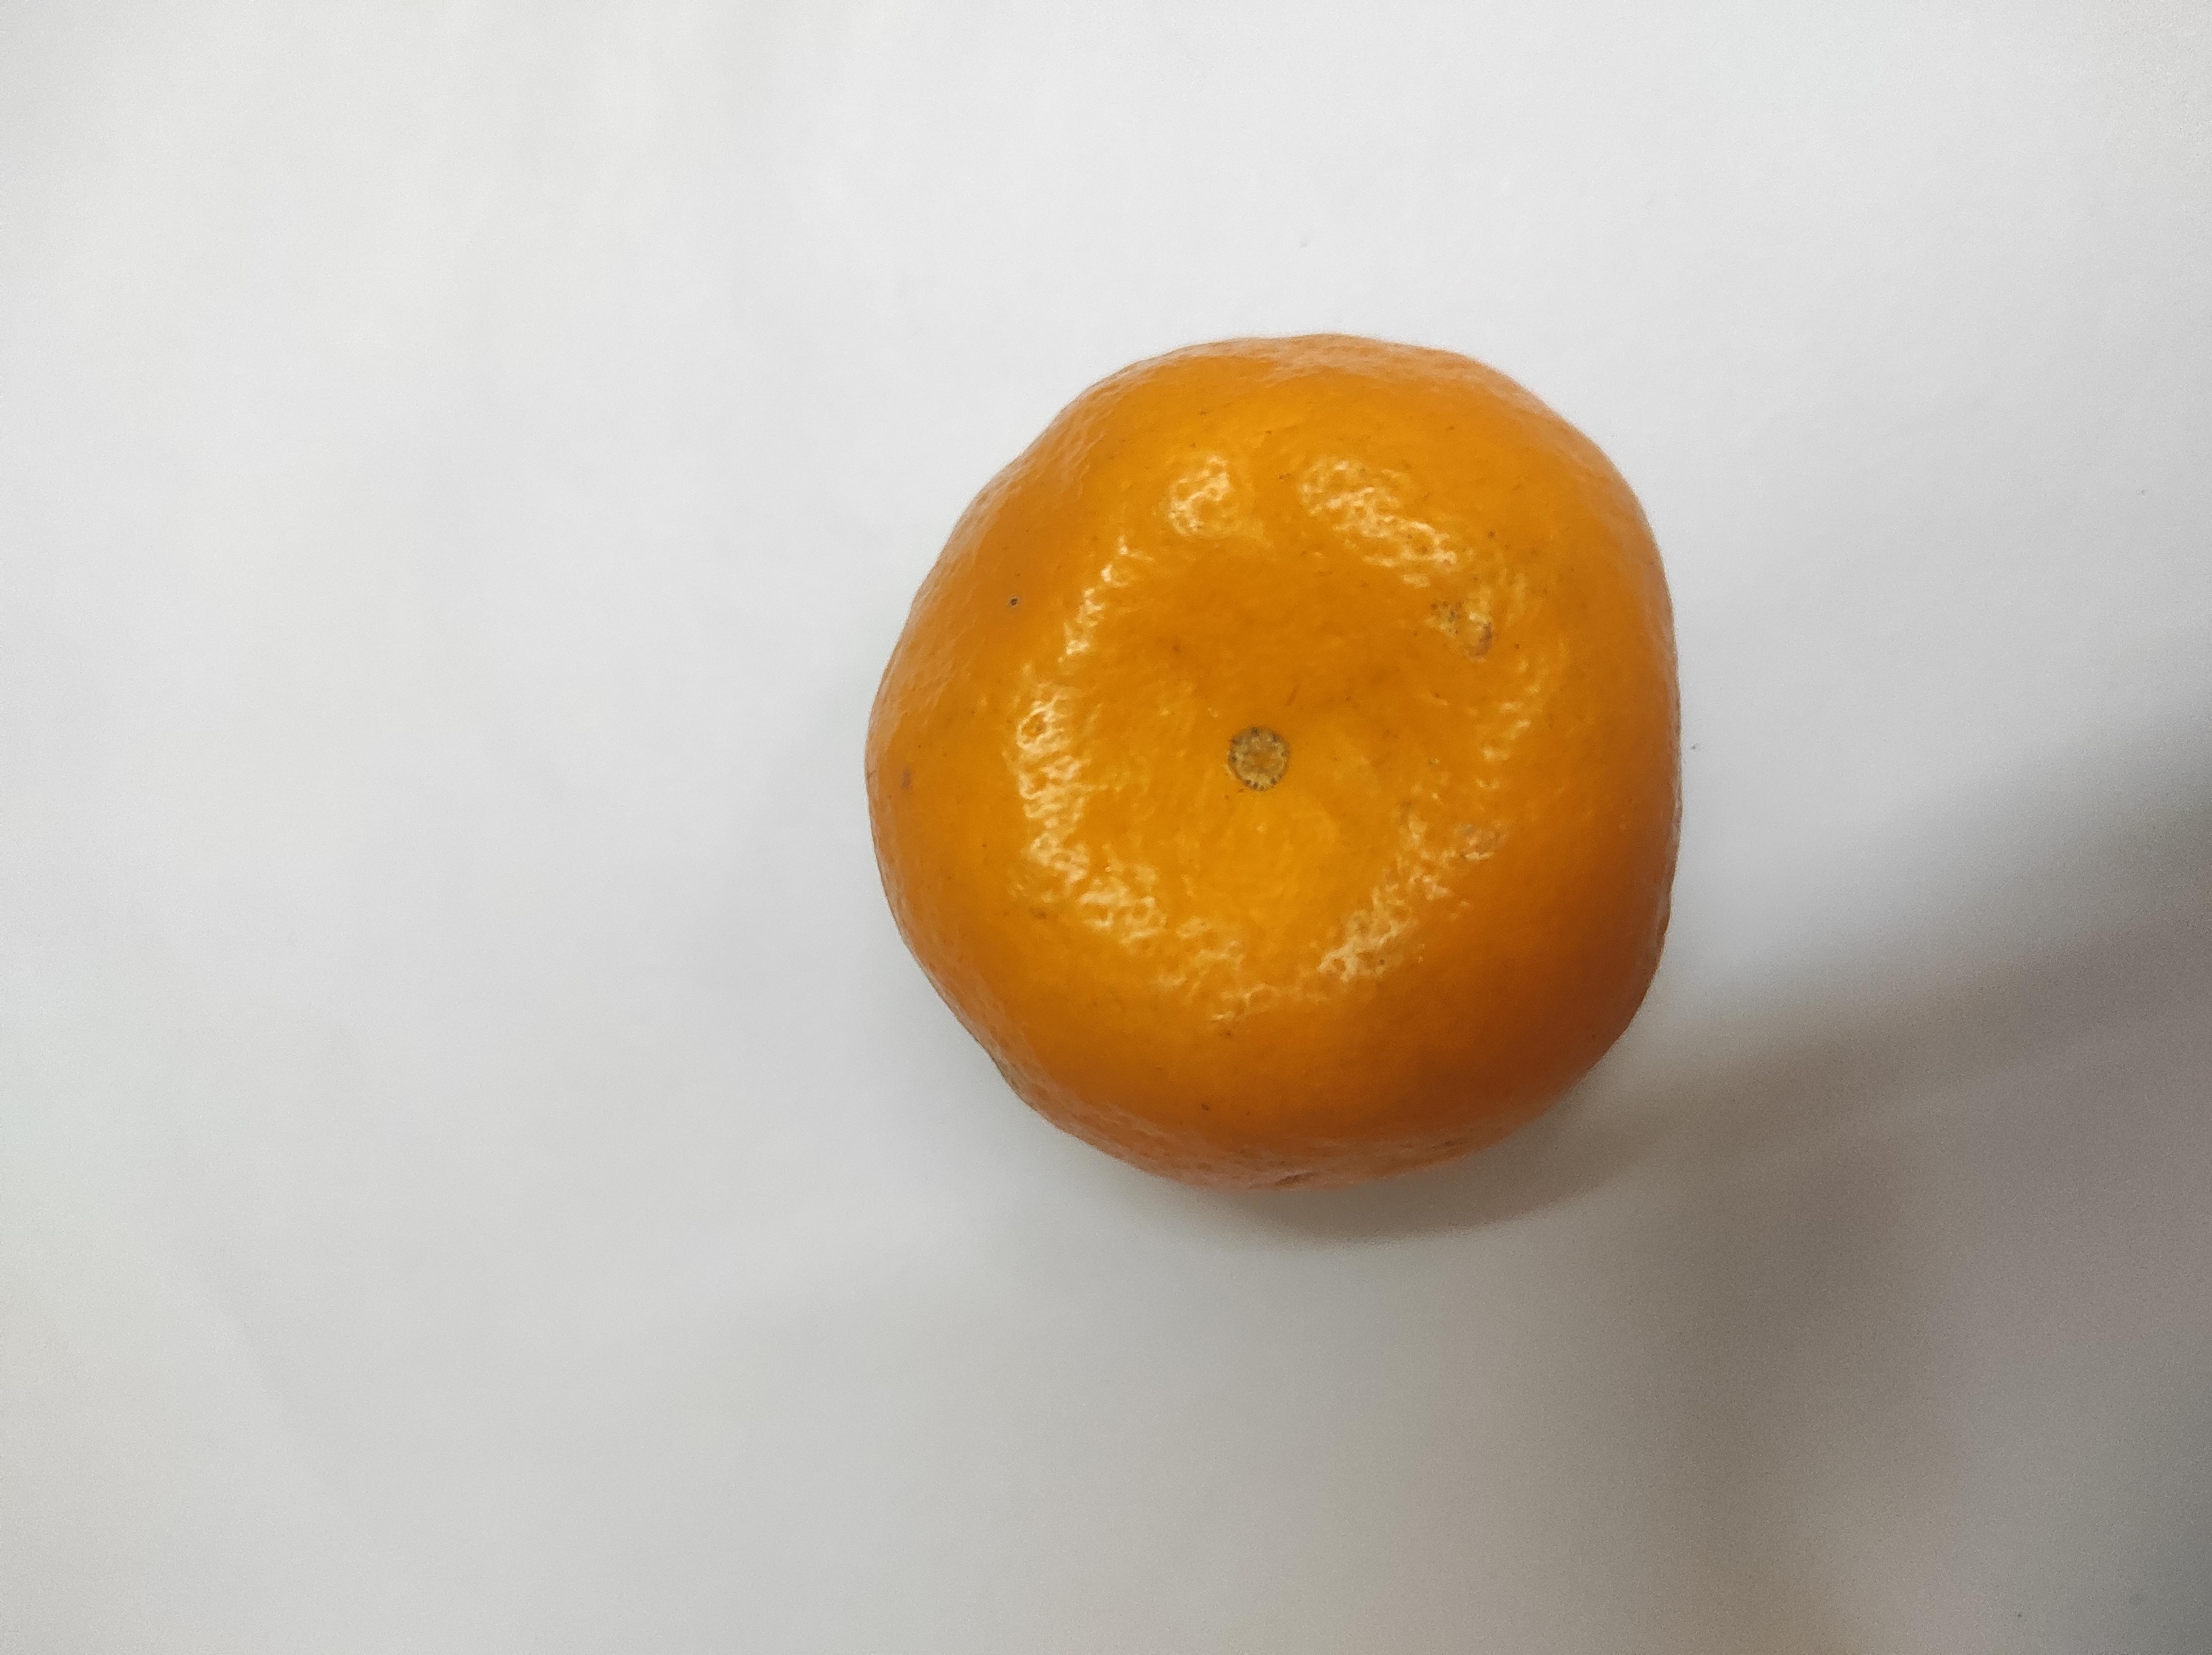Ripe: (805, 323, 1687, 1182)
